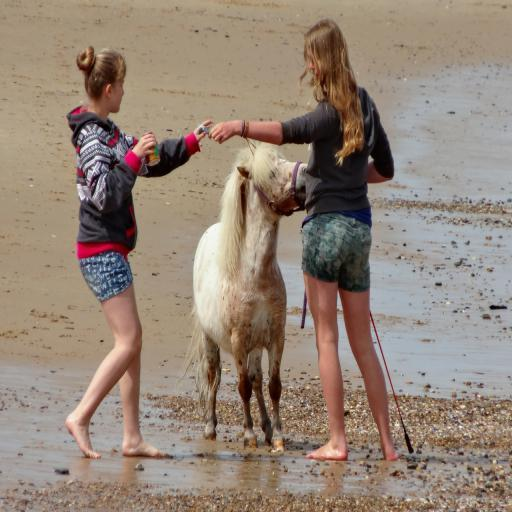horse: (177, 130, 309, 446)
